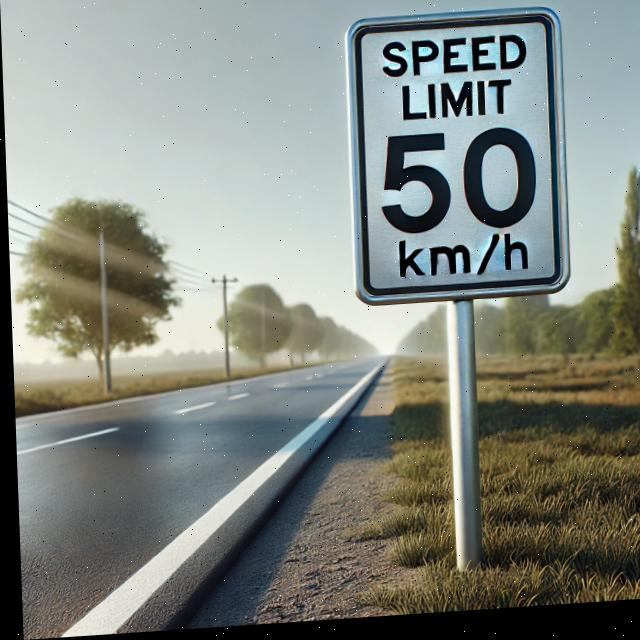Speed limit 50: (343, 12, 571, 315)
